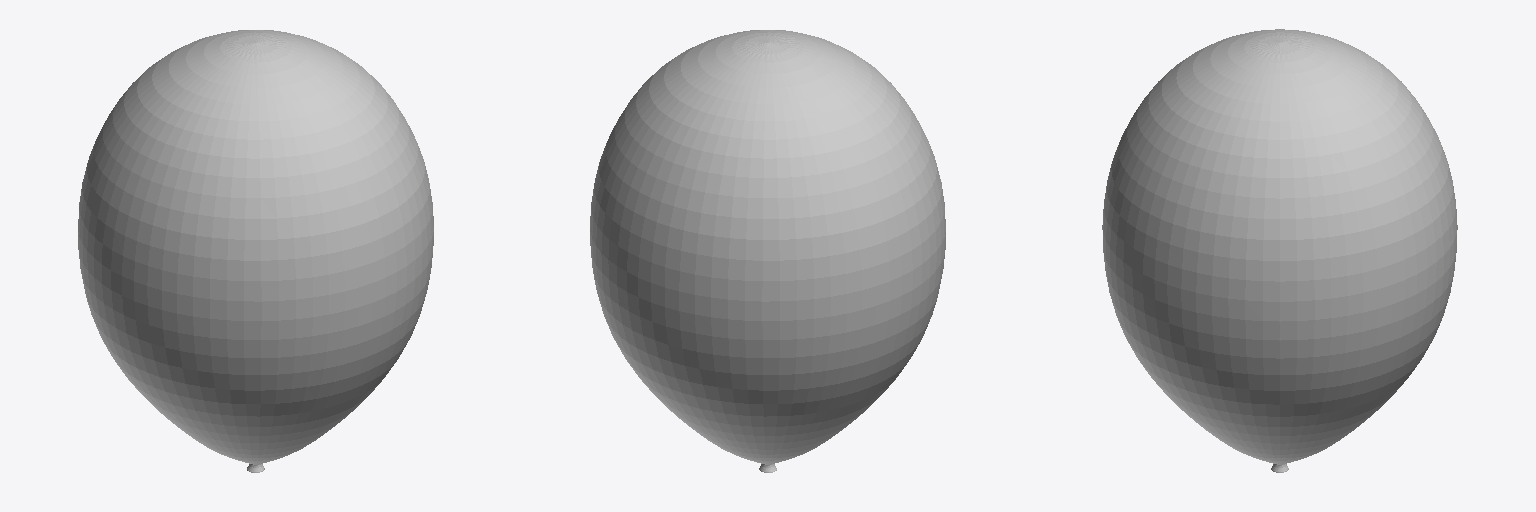
File: Globo11.obj
3 views of the same model, side by side, from view 1: azimuth 30°, elevation 25°; view 2: azimuth 150°, elevation 25°; view 3: azimuth 270°, elevation 25° (orthographic).
Visible parts, largest first — view 1: Sphere.006; view 2: Sphere.006; view 3: Sphere.006.
Part boxes in pixels (x1,y1,x2,y2): Sphere.006: (78, 30, 433, 472); Sphere.006: (590, 30, 945, 472); Sphere.006: (1102, 29, 1457, 472).
Size of the model in its own units: 0.5211 by 0.688 by 0.519.